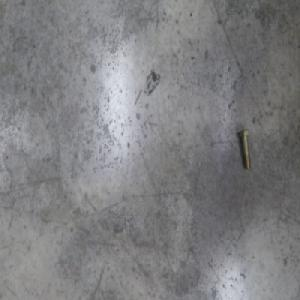Bolt: (238, 126, 251, 168)
